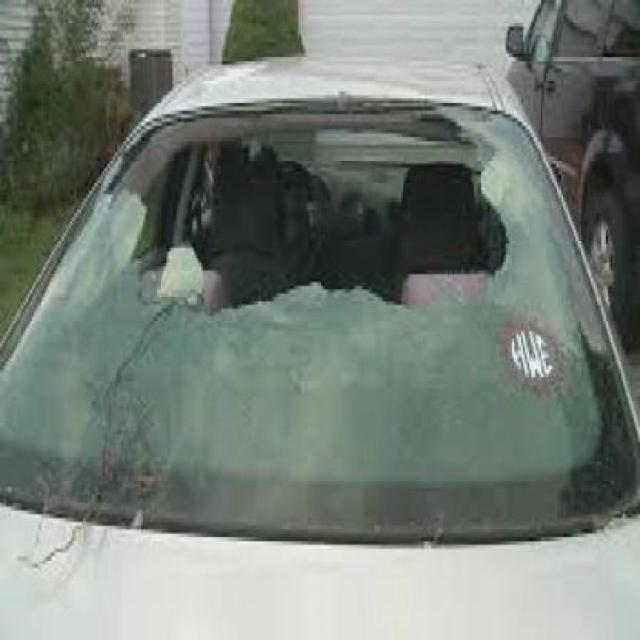Rear-windscreen-Damage: (0, 92, 638, 588)
